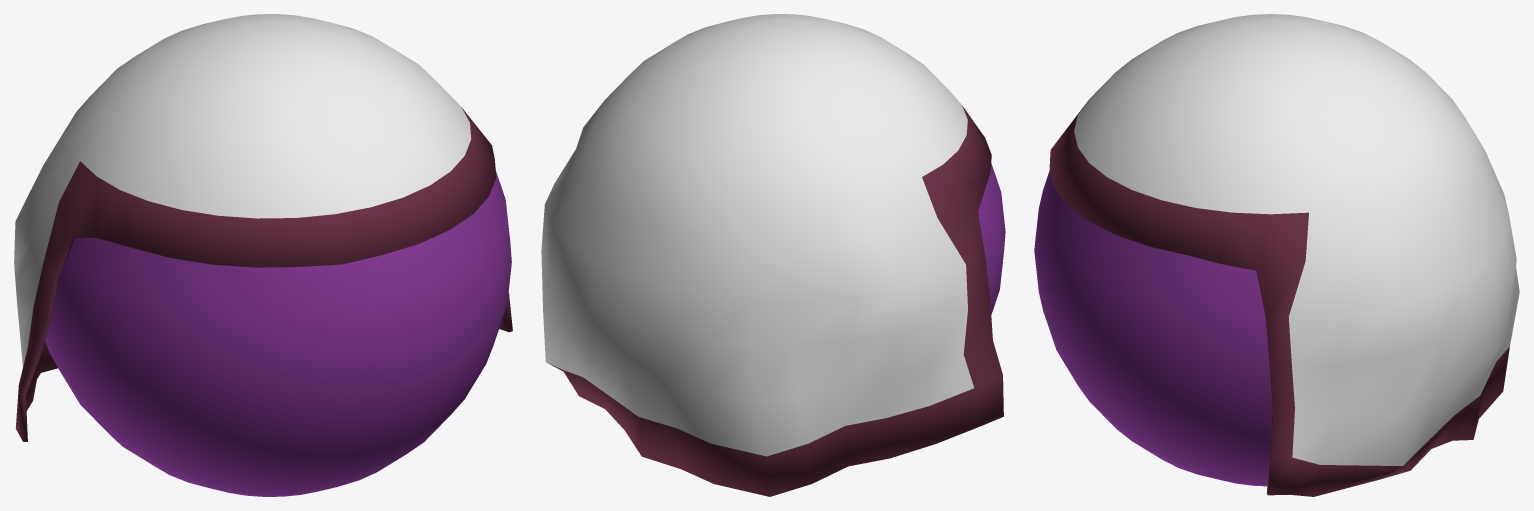
The model's file is bolitas11.fbx.
3 renders of one model, left to right at view 1: azimuth 30°, elevation 25°; view 2: azimuth 150°, elevation 25°; view 3: azimuth 270°, elevation 25°, orthographic. The views are drawn at different scales.
Visible parts, largest first — view 1: Sphere.005, Sphere.004; view 2: Sphere.005, Sphere.004; view 3: Sphere.005, Sphere.004.
Part boxes in pixels (left/top/right/bottom): Sphere.005: left=14, top=14, right=512, bottom=441; Sphere.004: left=45, top=170, right=511, bottom=496; Sphere.005: left=541, top=14, right=1003, bottom=496; Sphere.004: left=978, top=163, right=1005, bottom=314; Sphere.005: left=1049, top=14, right=1519, bottom=496; Sphere.004: left=1034, top=170, right=1272, bottom=486.
Bounding box in the file's own units: 231 × 200 × 205.
